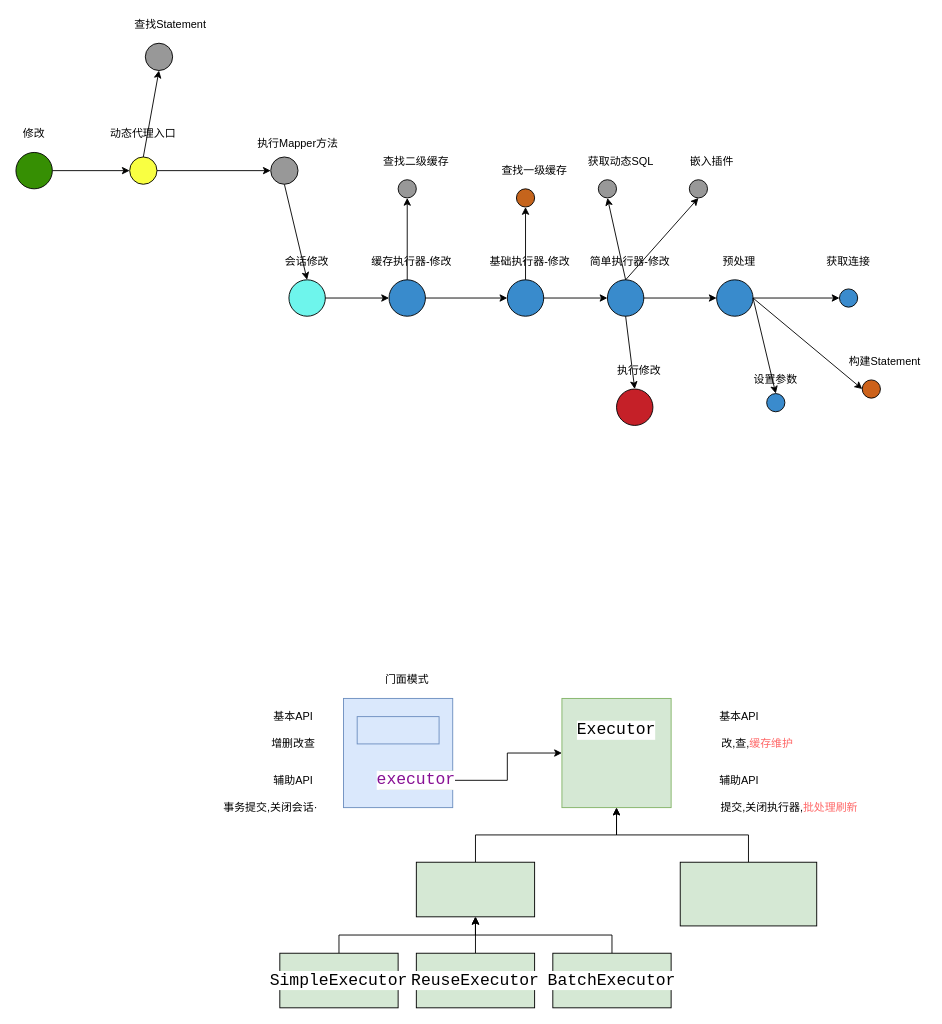
Some shapes in this 942 by 1024 pixel diagram are drawn without their labels. The shapes that lost their labels are listed below. From the top down, each one's box as (x1, y1, x2, y2) in pixels, then its label:
(356, 716, 439, 744): SqlSession
(415, 861, 535, 917): BaseExecutor
(679, 861, 817, 926): CachingExecutor
